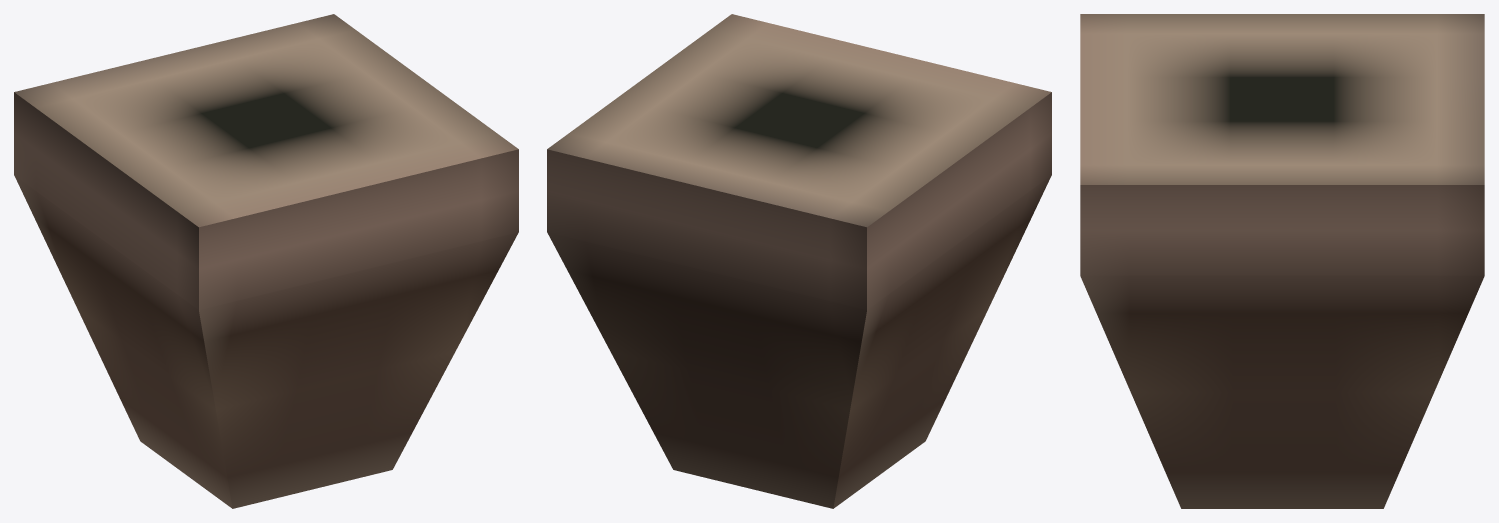
File: vase_07.fbx
The picture shows the model from 3 angles, left to right: view 1: azimuth 30°, elevation 25°; view 2: azimuth 150°, elevation 25°; view 3: azimuth 270°, elevation 25°; orthographic projection. The views are drawn at different scales.
Visible parts, largest first — view 1: vase_07; view 2: vase_07; view 3: vase_07.
Boxes of the visible parts, x1,y1,x2,y2 form: vase_07: [14, 14, 518, 508]; vase_07: [547, 14, 1051, 508]; vase_07: [1080, 14, 1484, 508].
Bounding box in the file's own units: 4 × 4 × 4.
